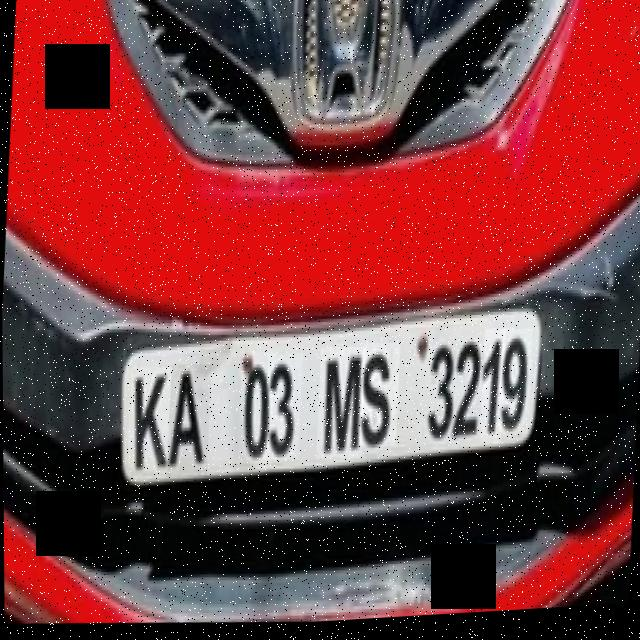0: (236, 353, 275, 469)
1: (478, 334, 506, 451)
3: (421, 339, 462, 459), (262, 355, 303, 465)
9: (497, 334, 533, 440)
A: (166, 364, 212, 480)
K: (126, 367, 171, 474)
M: (315, 349, 366, 464)
S: (358, 345, 400, 452)
